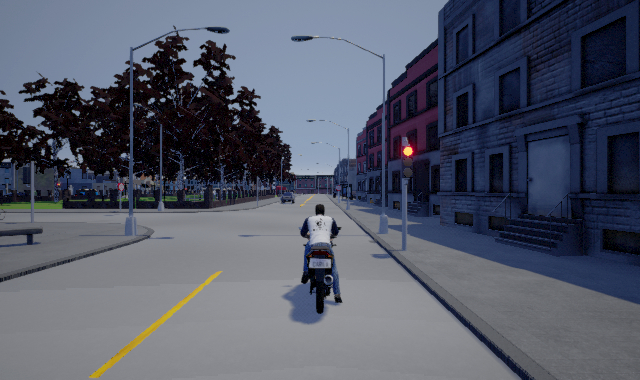motobike: (300, 203, 342, 314)
traffic_light: (400, 144, 413, 179)
traffic_sign: (116, 181, 126, 192), (335, 183, 342, 192)
vehicle: (280, 188, 294, 204)
